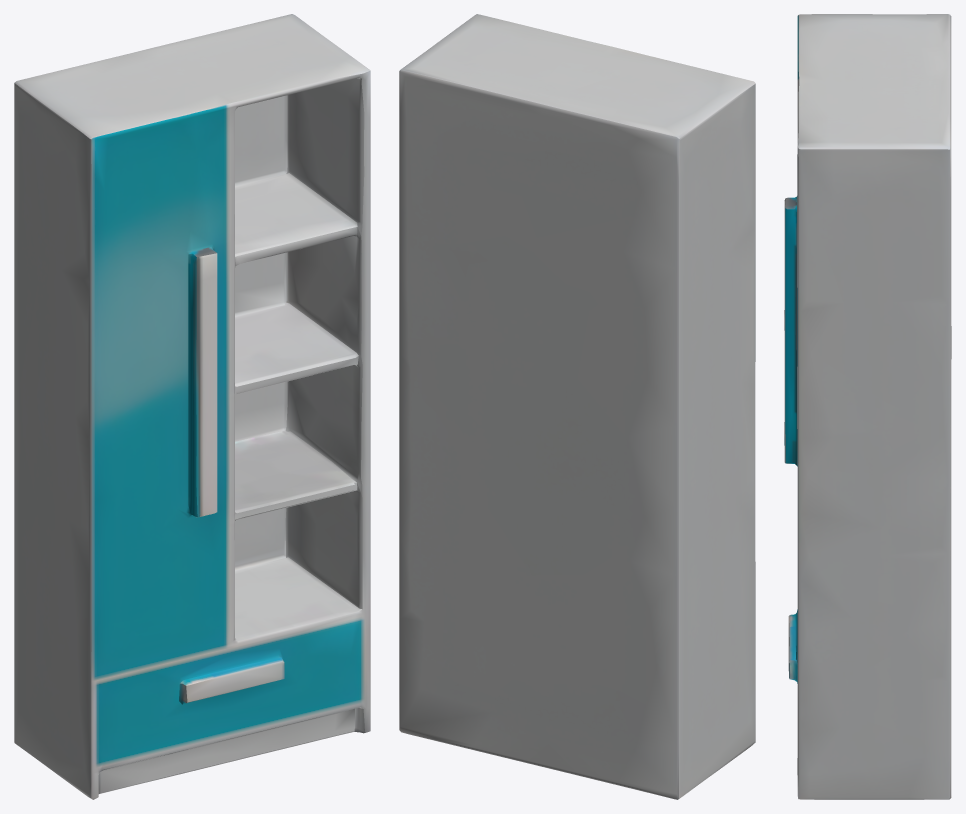
File: ArmoireEnfantMale_3D_textured.glb
The picture shows the model from 3 angles, left to right: view 1: azimuth 30°, elevation 25°; view 2: azimuth 150°, elevation 25°; view 3: azimuth 270°, elevation 25°; orthographic projection.
Parts seen in each view (by area): view 1: temp_mesh.ply; view 2: temp_mesh.ply; view 3: temp_mesh.ply.
Part boxes in pixels (box(x1,y1,x2,y2)): temp_mesh.ply: box(14, 14, 370, 799); temp_mesh.ply: box(399, 14, 755, 799); temp_mesh.ply: box(784, 14, 951, 799).
Bounding box in the file's own units: 0.874 × 1.97 × 0.4575.
1 material, 1 textured.
